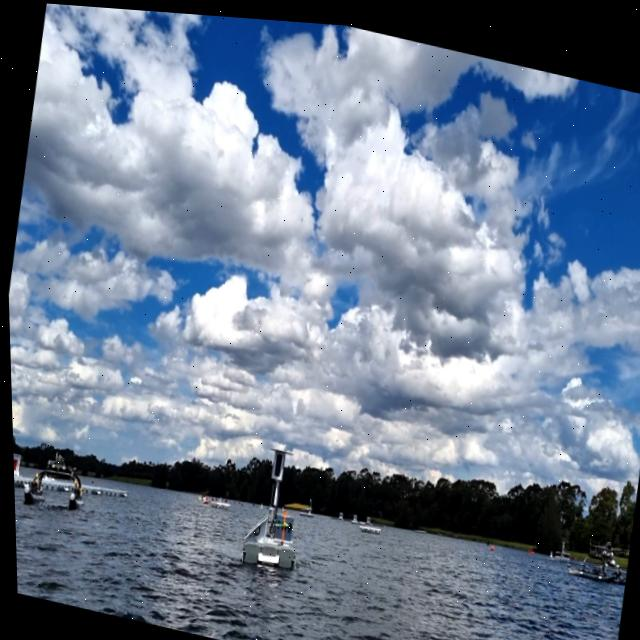led: (270, 448, 282, 475)
